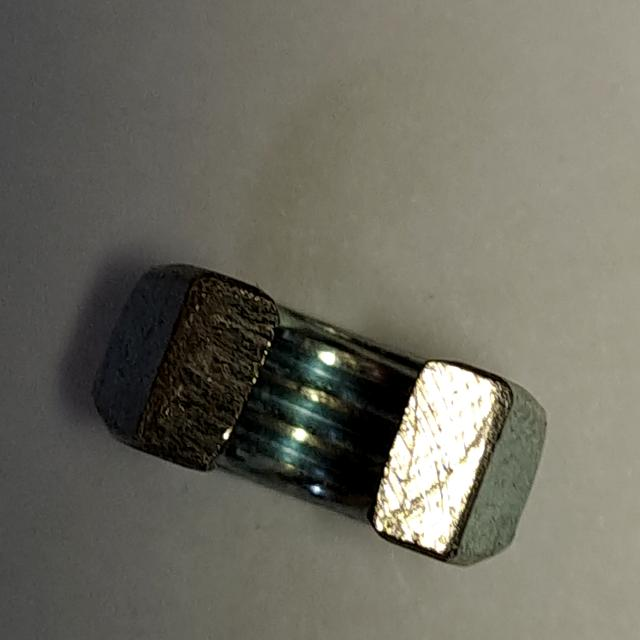Side-Fracture: (76, 241, 561, 593)
